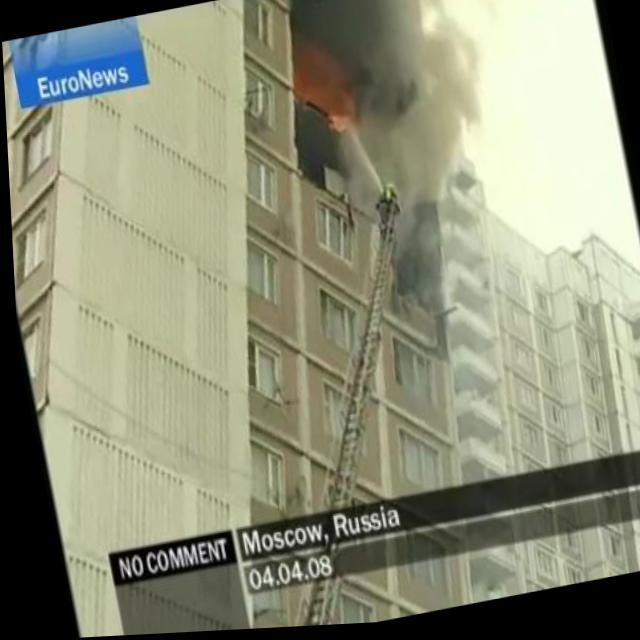fire: (317, 100, 363, 149)
